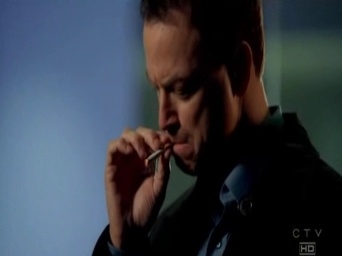smoke: (142, 143, 168, 165)
